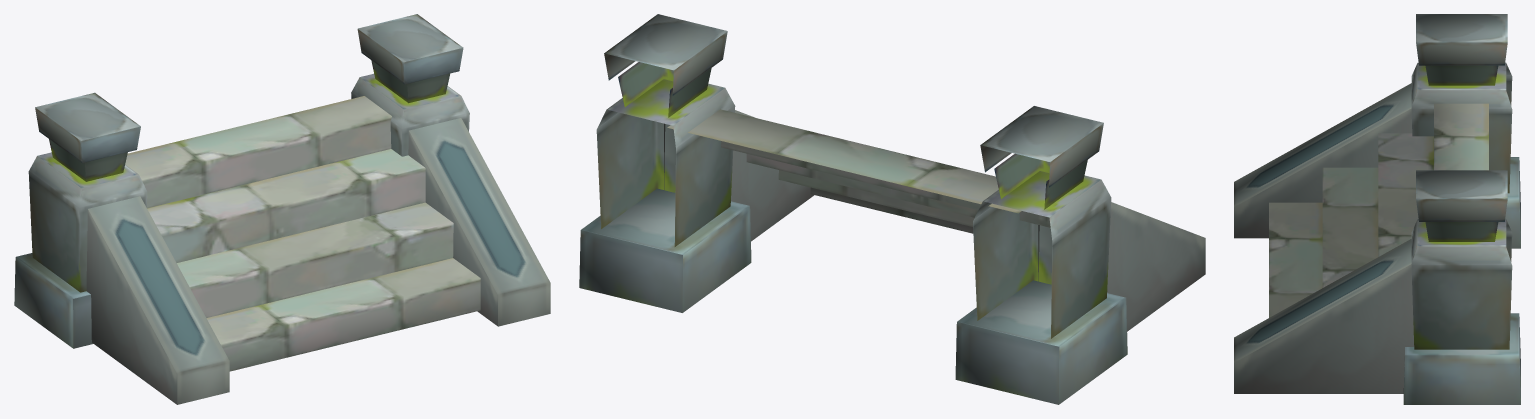
File: Map_06_stairs04.FBX
3 views of the same model, side by side, from view 1: azimuth 30°, elevation 25°; view 2: azimuth 150°, elevation 25°; view 3: azimuth 270°, elevation 25° (orthographic). The views are drawn at different scales.
Parts seen in each view (by area): view 1: Map_06_stairs04; view 2: Map_06_stairs04; view 3: Map_06_stairs04.
Part boxes in pixels (<box>): Map_06_stairs04: <box>14,14,550,404</box>; Map_06_stairs04: <box>579,14,1205,404</box>; Map_06_stairs04: <box>1234,14,1520,404</box>.
Bounding box in the file's own units: 544 × 331 × 253.
